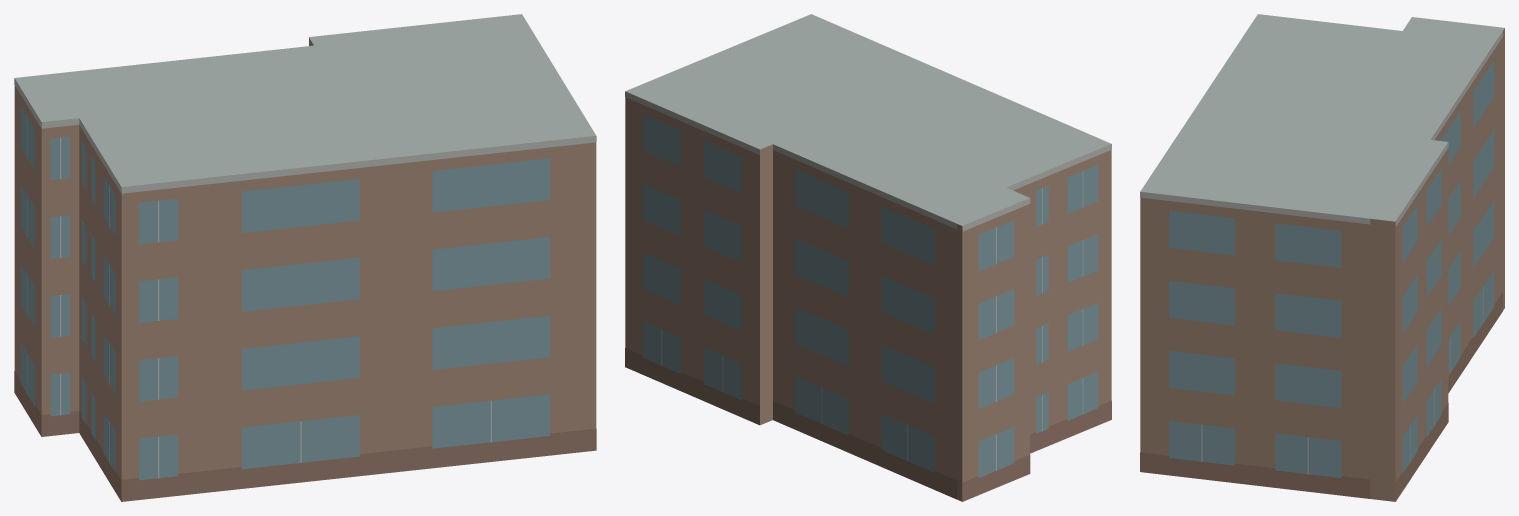
Rendered from survey-upis-32848964.glb.
3 views of the same model, side by side, from view 1: azimuth 30°, elevation 25°; view 2: azimuth 150°, elevation 25°; view 3: azimuth 270°, elevation 25° (orthographic). The views are drawn at different scales.
Parts seen in each view (by area): view 1: survey-upis-32848964.tmp; view 2: survey-upis-32848964.tmp; view 3: survey-upis-32848964.tmp.
Boxes of the visible parts, x1,y1,x2,y2 form: survey-upis-32848964.tmp: (14, 14, 596, 501); survey-upis-32848964.tmp: (625, 14, 1111, 501); survey-upis-32848964.tmp: (1140, 14, 1504, 501).
Size of the model in its own units: 18.76 by 11.8 by 13.93.
